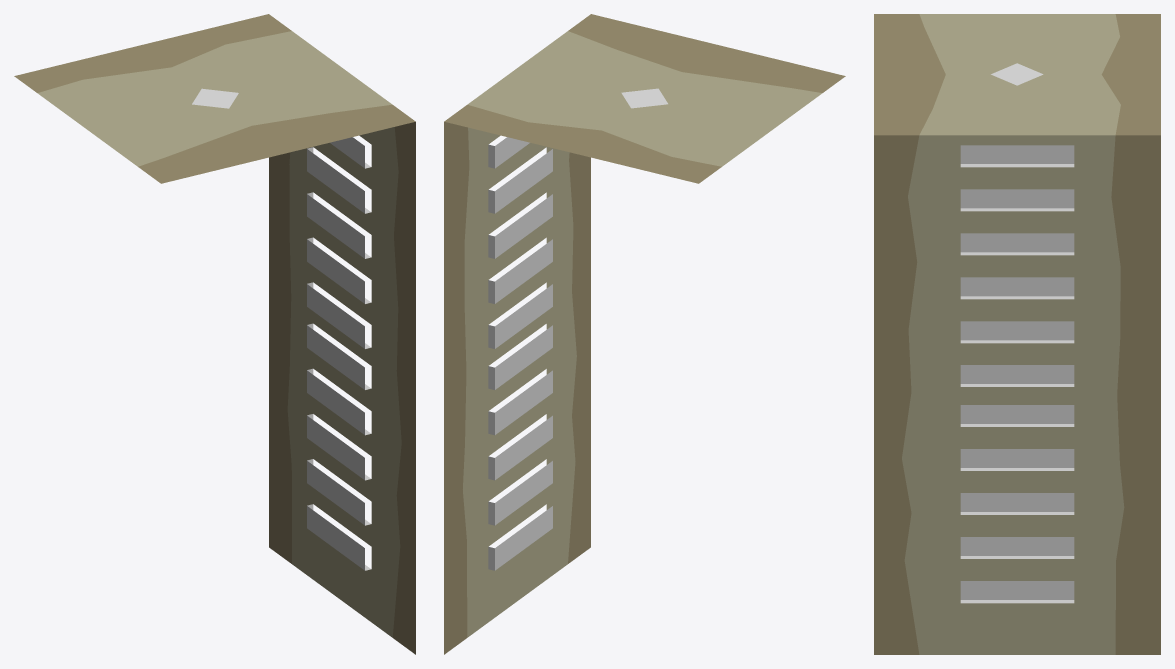
Rendered from 90L Left Straight.fbx.
3 views of the same model, side by side, from view 1: azimuth 30°, elevation 25°; view 2: azimuth 150°, elevation 25°; view 3: azimuth 270°, elevation 25° (orthographic). The views are drawn at different scales.
Parts seen in each view (by area): view 1: polySurface7490; view 2: polySurface7490; view 3: polySurface7490.
Part boxes in pixels (<box>): polySurface7490: <box>14,14,415,654</box>; polySurface7490: <box>444,14,845,654</box>; polySurface7490: <box>874,14,1160,654</box>.
Size of the model in its own units: 100 by 200 by 100.
